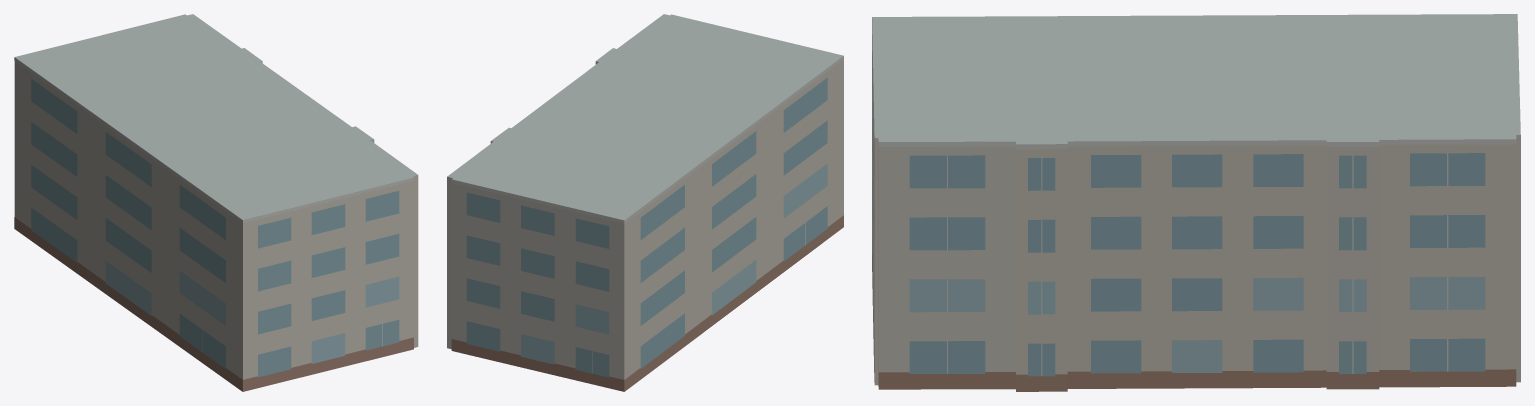
The model's file is survey-upis-32551909.glb.
The picture shows the model from 3 angles, left to right: view 1: azimuth 30°, elevation 25°; view 2: azimuth 150°, elevation 25°; view 3: azimuth 270°, elevation 25°; orthographic projection. The views are drawn at different scales.
Parts seen in each view (by area): view 1: survey-upis-32551909.tmp; view 2: survey-upis-32551909.tmp; view 3: survey-upis-32551909.tmp.
Part boxes in pixels (x1=…): survey-upis-32551909.tmp: x1=14, y1=14, x2=418, y2=391; survey-upis-32551909.tmp: x1=447, y1=14, x2=843, y2=391; survey-upis-32551909.tmp: x1=872, y1=14, x2=1520, y2=391.
Size of the model in its own units: 13.8 by 12.2 by 28.99.
